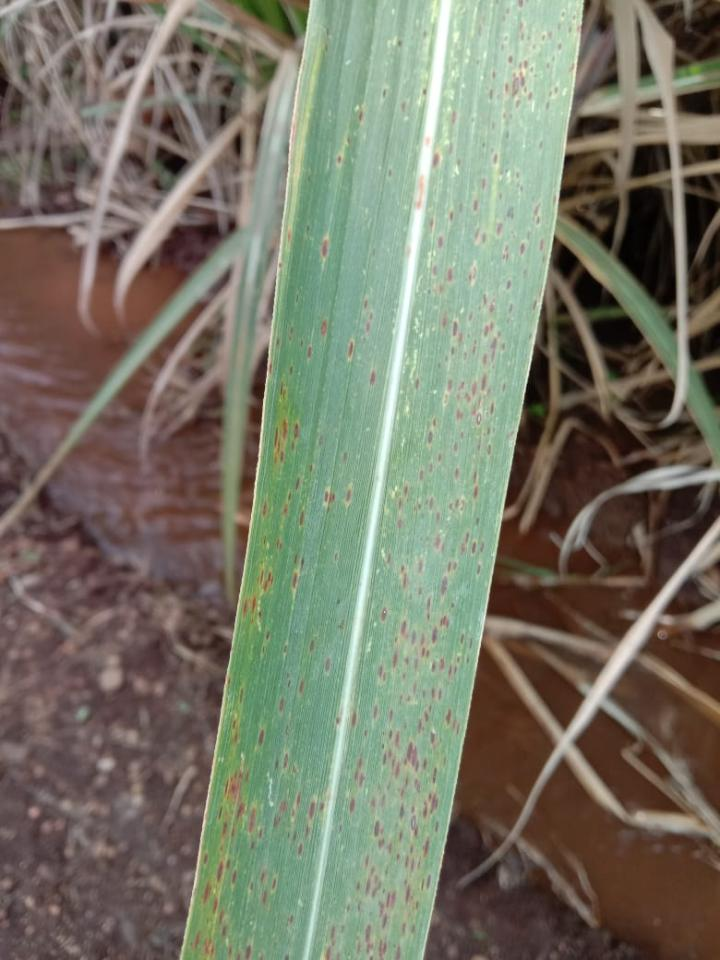RedRot: (416, 174, 425, 211), (425, 136, 431, 146)
Rust: (319, 0, 581, 959), (181, 284, 382, 959), (334, 79, 430, 171), (316, 234, 332, 261), (324, 26, 331, 53), (286, 914, 296, 925), (281, 953, 292, 959)
